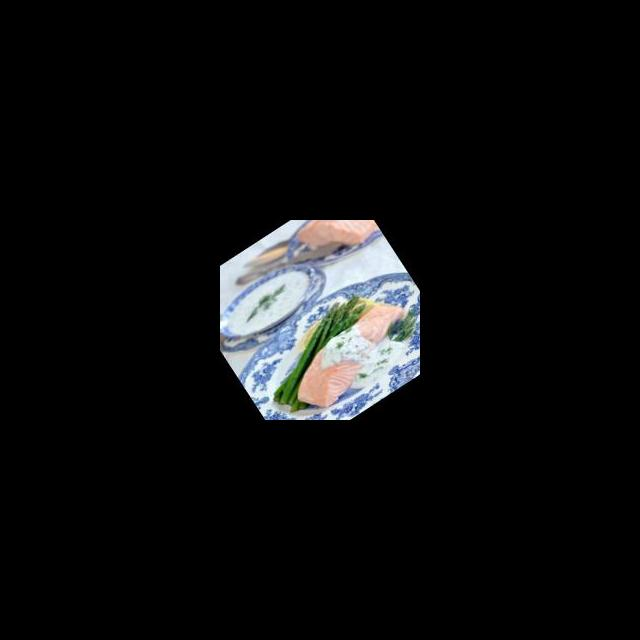ca hoi: (285, 309, 405, 412), (288, 220, 382, 274)
ca hoi sot pho mai kem: (255, 303, 420, 407)
pho mai: (320, 327, 408, 374)
